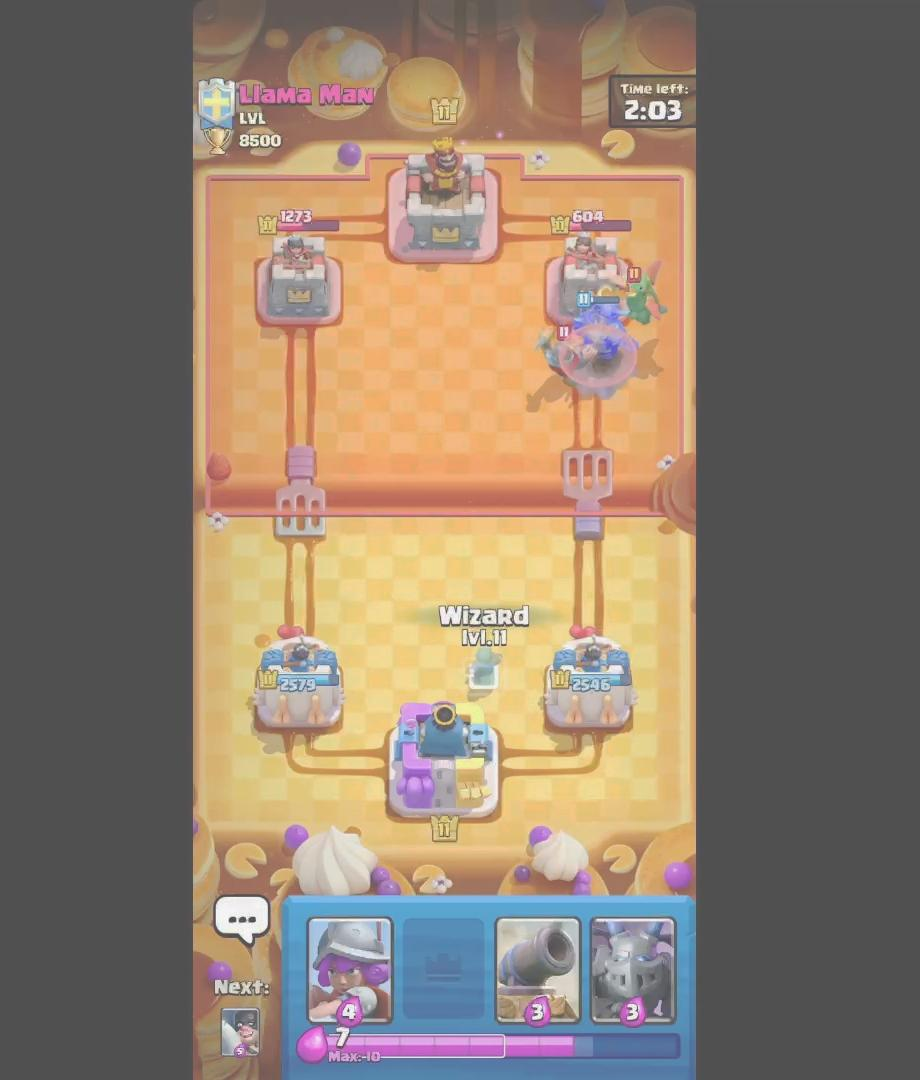Baby Dragon: (601, 257, 670, 338)
Knight: (533, 318, 589, 383)
